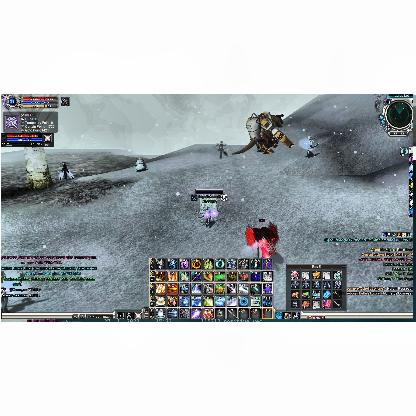caliana: (303, 135, 319, 157), (57, 162, 74, 180), (216, 141, 228, 159)
